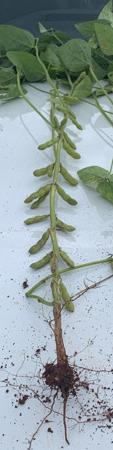soja: (58, 277, 77, 313), (30, 229, 54, 256), (52, 214, 78, 237), (23, 185, 52, 204), (29, 251, 55, 272), (56, 183, 77, 207), (56, 141, 81, 160), (60, 164, 80, 185), (32, 192, 54, 211), (58, 246, 77, 268), (32, 159, 55, 177), (37, 137, 60, 152), (68, 110, 82, 133), (62, 131, 78, 151), (25, 213, 54, 224), (60, 93, 81, 106), (48, 169, 56, 183)
